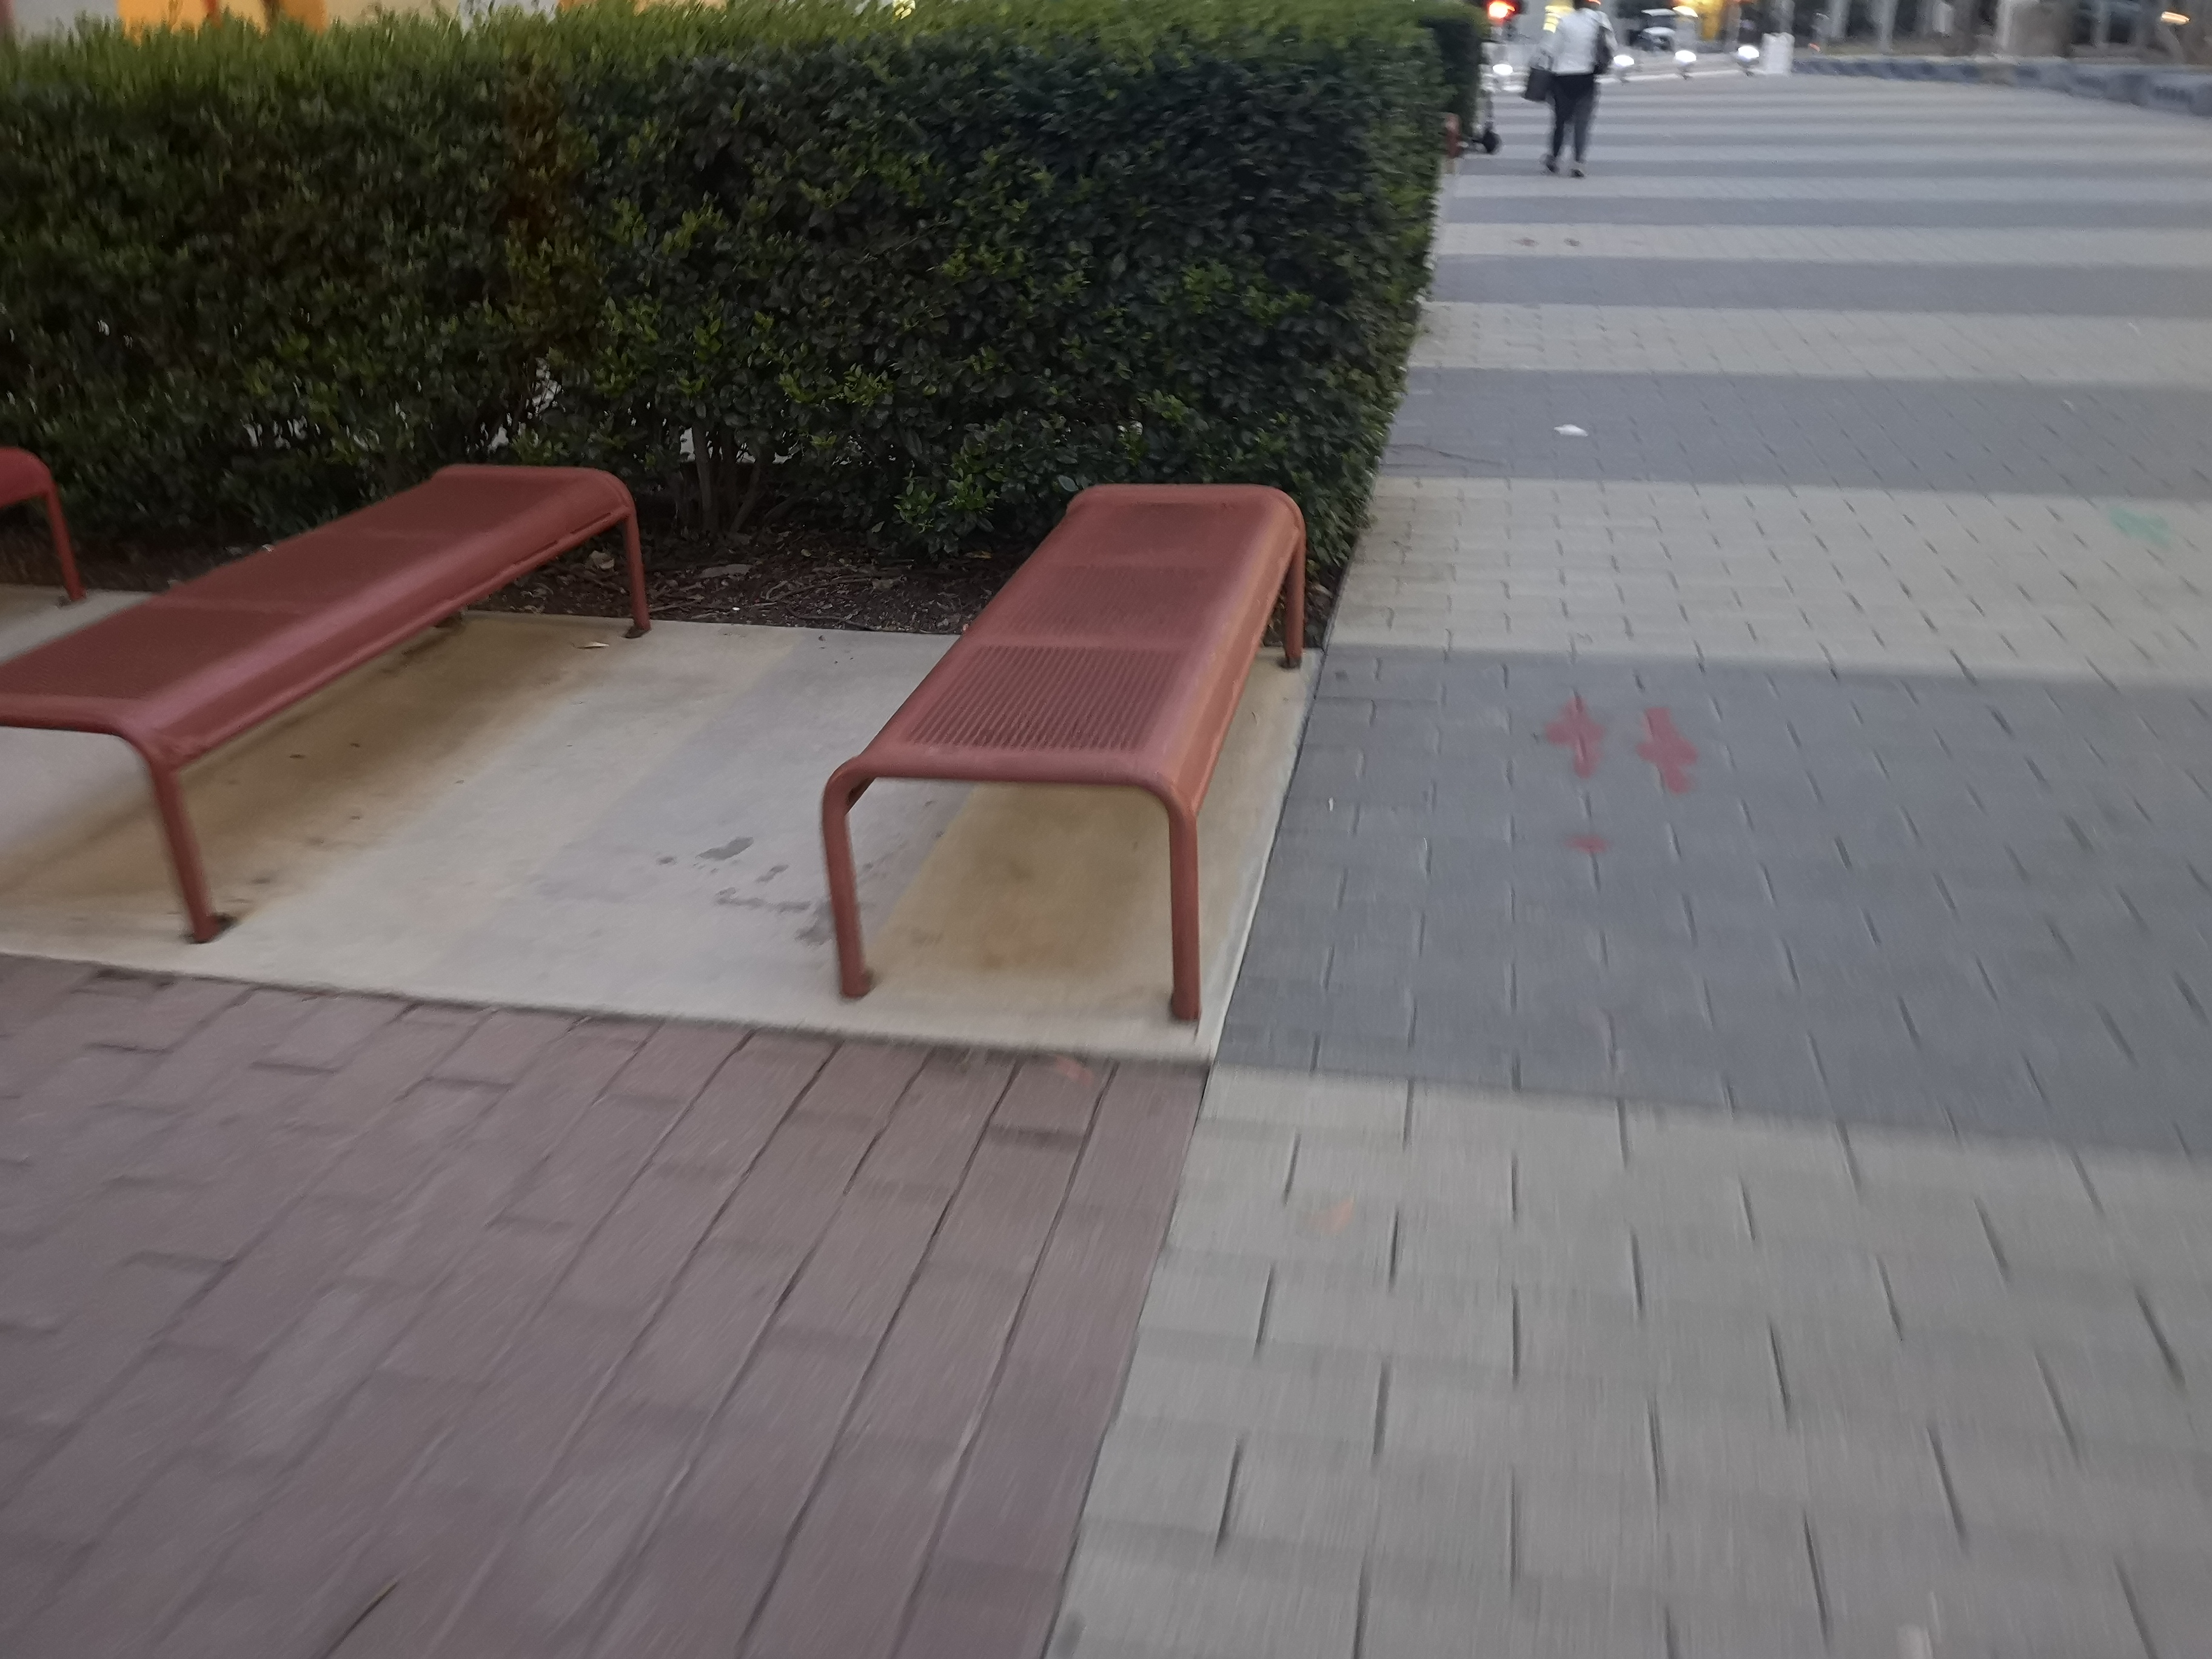Obstacle: (3, 2, 1454, 664), (16, 364, 709, 986), (850, 490, 1317, 1082)
